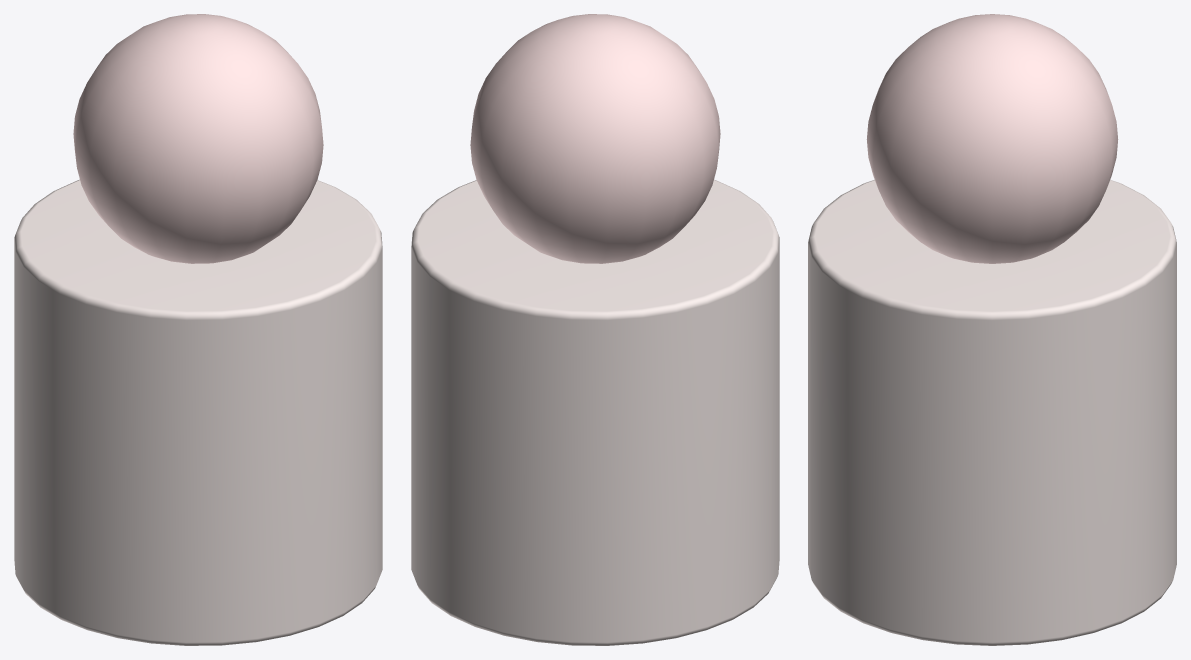
File: Perfume_whLabel.glb
The picture shows the model from 3 angles, left to right: view 1: azimuth 30°, elevation 25°; view 2: azimuth 150°, elevation 25°; view 3: azimuth 270°, elevation 25°; orthographic projection.
Size of the model in its own units: 4.45 by 7.27 by 4.45.
